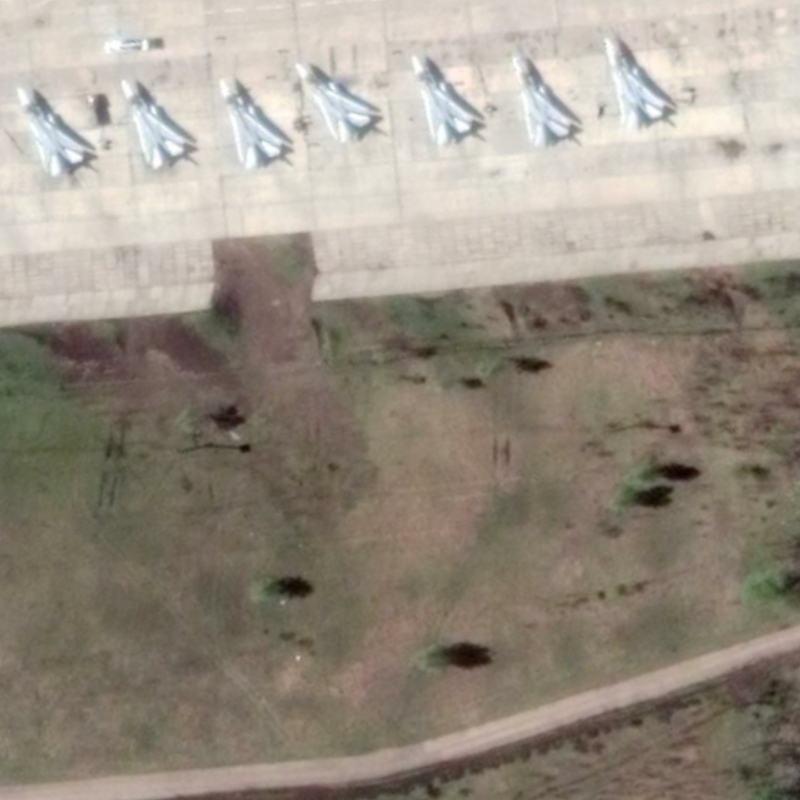A20: (14, 85, 87, 179), (293, 60, 373, 144), (408, 52, 475, 148), (118, 77, 187, 170), (217, 77, 286, 168), (601, 36, 666, 129), (509, 53, 572, 148)
